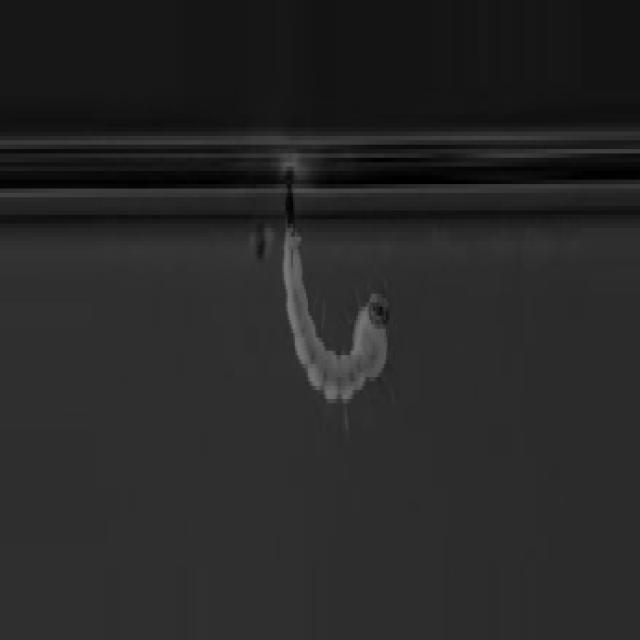larvas: (283, 180, 387, 400)
